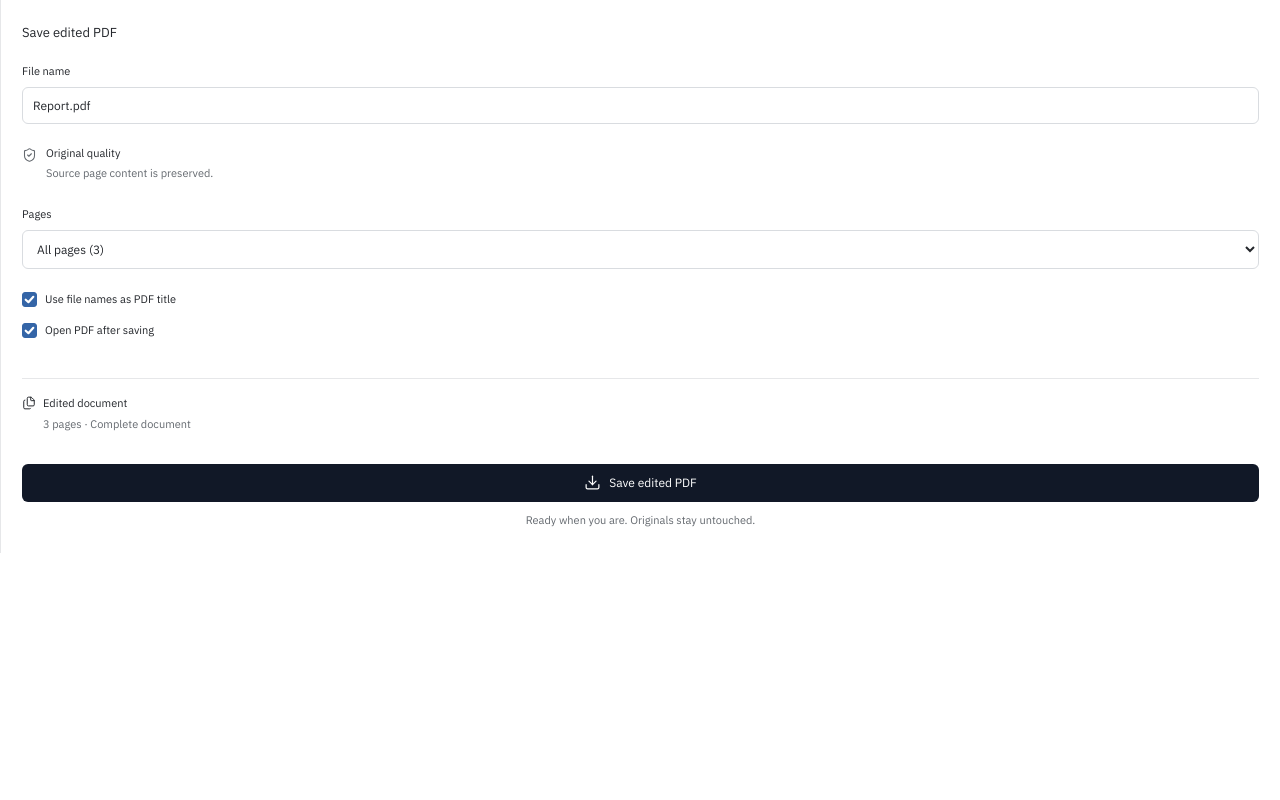
Test case: OutputInspector › Current page counts one page from the current position
Select "Current page (3)" in the dropdown labelled "Pages" at (640,249), box x1=22 y1=230 x2=1259 y2=269
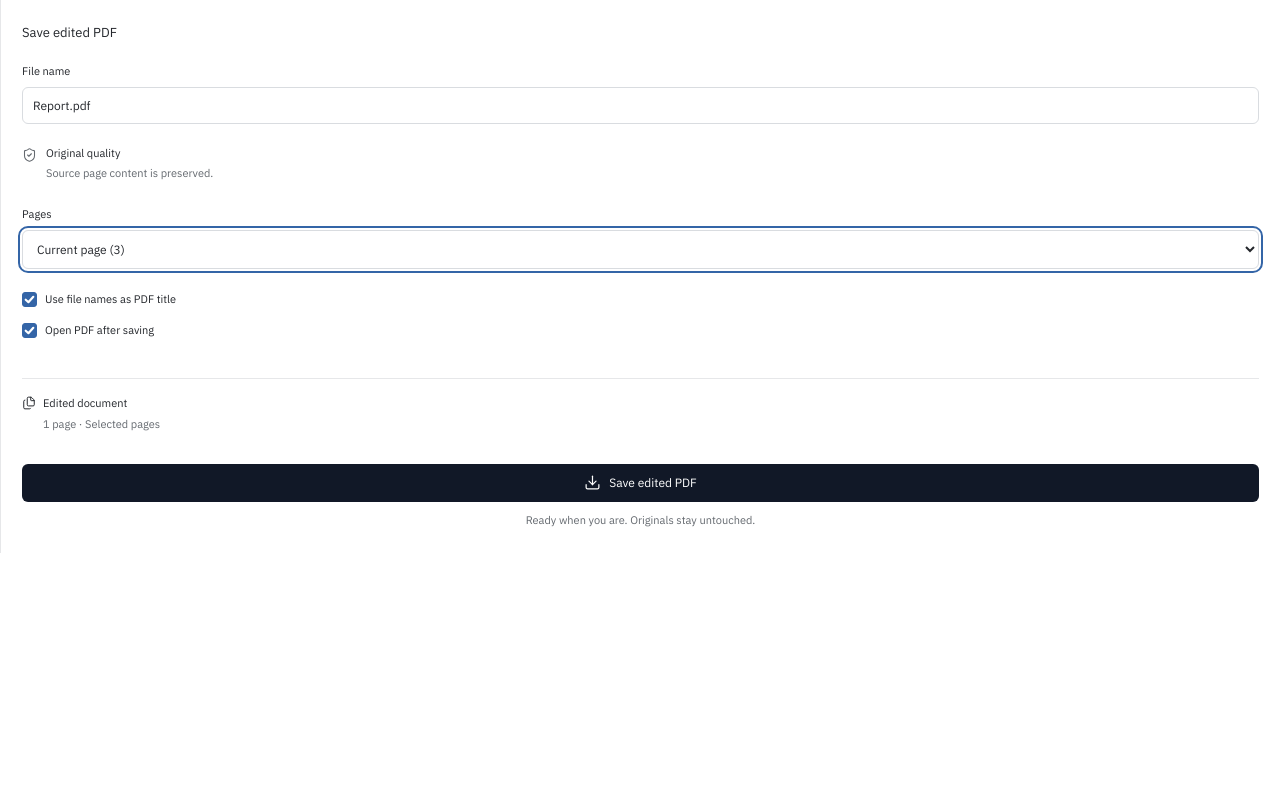
Check: the text with id "export-summary" reads "1 page · Selected pages", box x1=43 y1=417 x2=160 y2=431
